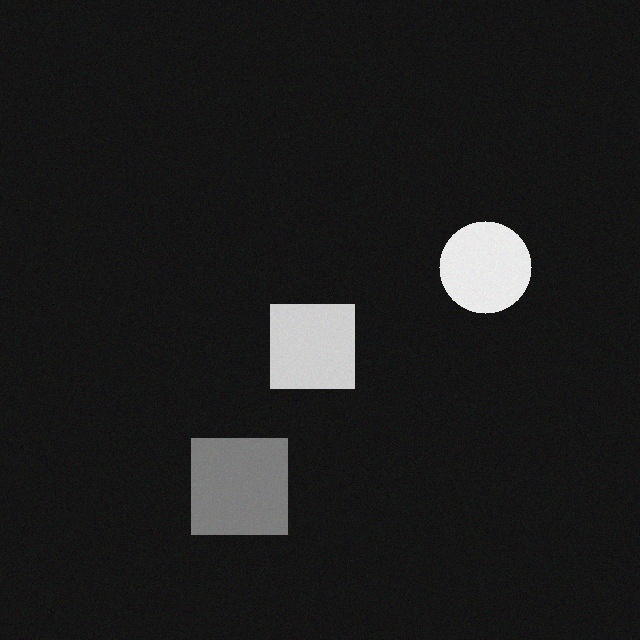circle: (441, 211, 533, 303)
square: (193, 428, 289, 524), (272, 294, 356, 378)
